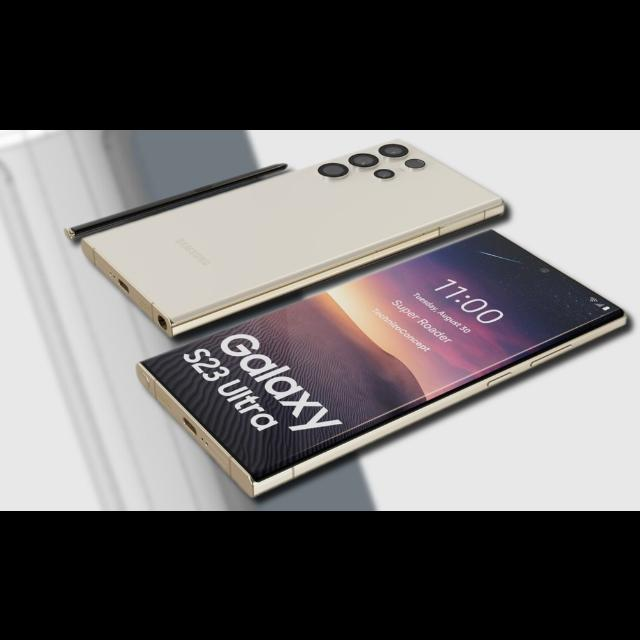Smartphone: (135, 230, 633, 499), (80, 139, 509, 337)
